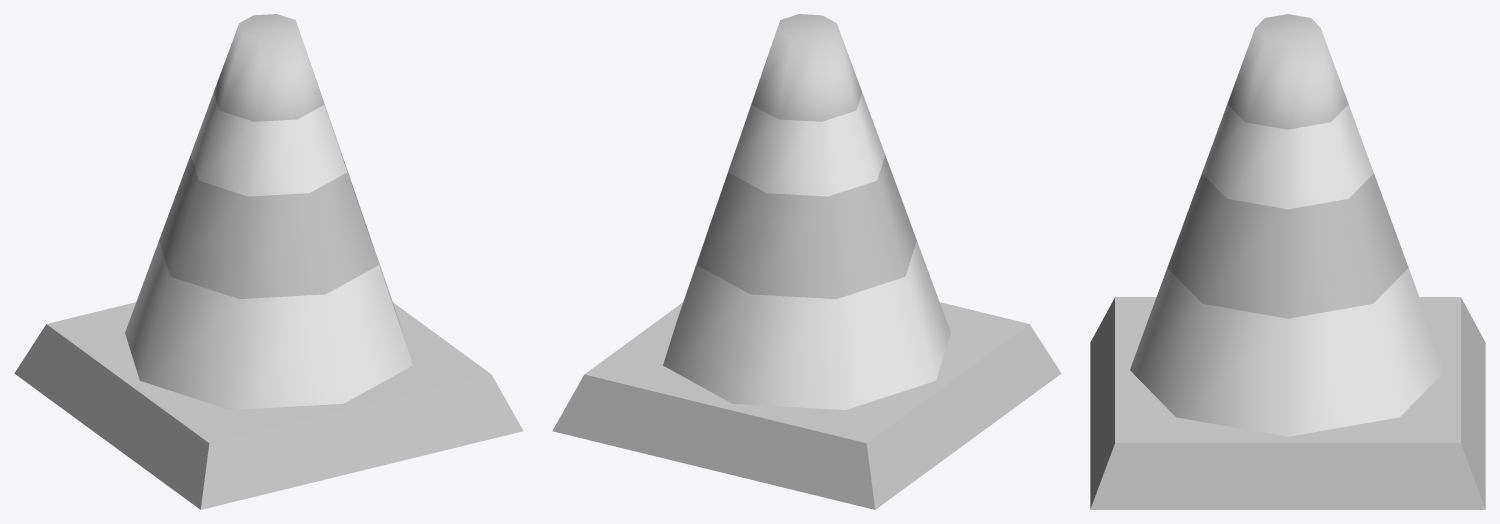
Rendered from TrafficCone.fbx.
The picture shows the model from 3 angles, left to right: view 1: azimuth 30°, elevation 25°; view 2: azimuth 150°, elevation 25°; view 3: azimuth 270°, elevation 25°; orthographic projection. The views are drawn at different scales.
Visible parts, largest first — view 1: Cube; view 2: Cube; view 3: Cube.
Boxes of the visible parts, left/top/right/bottom form: Cube: left=14, top=14, right=523, bottom=509; Cube: left=552, top=14, right=1061, bottom=509; Cube: left=1090, top=14, right=1485, bottom=509.
Bounding box in the file's own units: 62.8 × 69.82 × 62.8.
